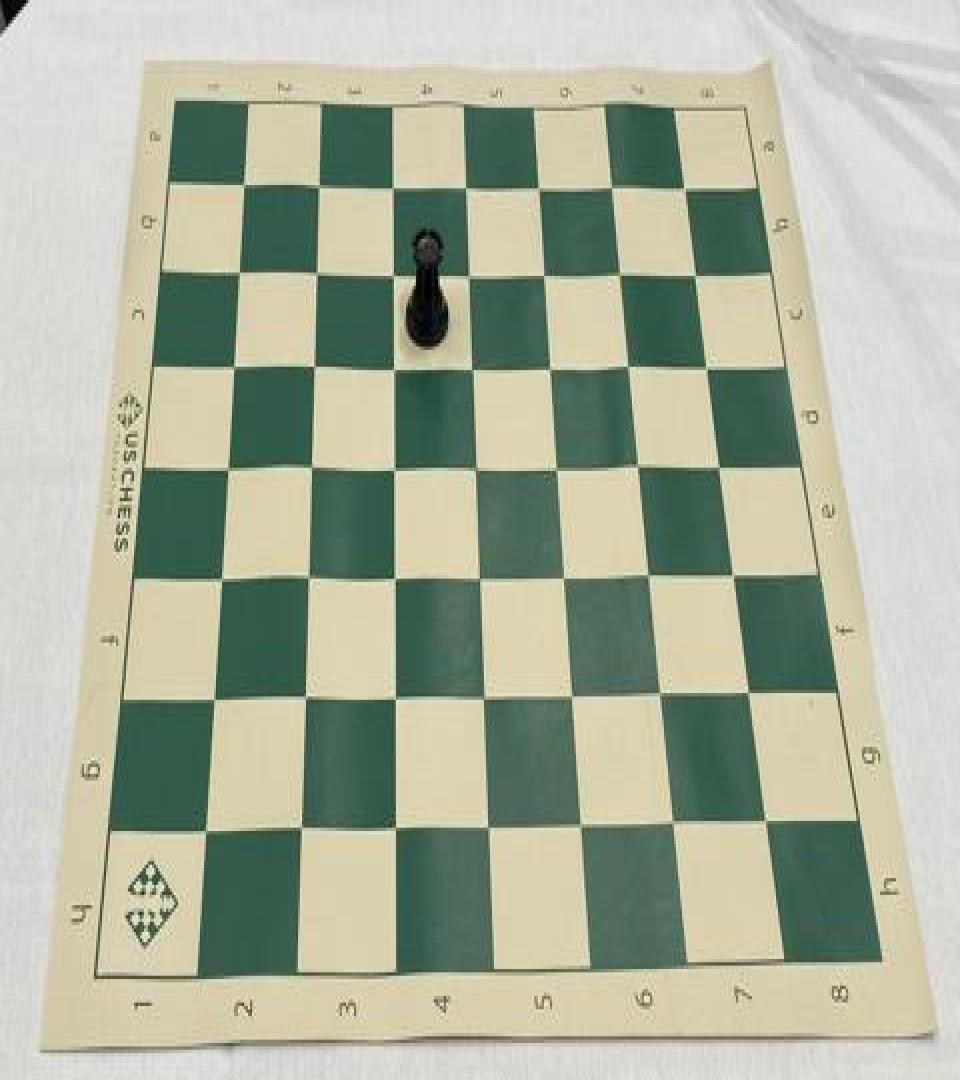xcorner: (602, 166, 624, 204), (529, 166, 551, 204), (456, 166, 478, 204), (382, 166, 404, 204), (383, 252, 405, 290), (306, 252, 328, 290), (229, 252, 251, 290), (697, 346, 719, 384), (619, 346, 641, 384), (541, 346, 563, 384), (462, 346, 484, 384), (383, 346, 405, 384), (303, 346, 325, 384), (223, 346, 245, 384), (563, 676, 585, 714), (756, 802, 778, 840), (674, 168, 696, 205), (308, 165, 330, 202), (234, 165, 256, 202), (685, 254, 707, 291), (610, 254, 632, 291), (535, 254, 557, 291), (459, 254, 481, 291), (383, 449, 405, 486), (300, 449, 322, 486), (217, 449, 239, 486), (724, 555, 746, 592), (640, 557, 662, 594), (555, 557, 577, 594), (470, 558, 492, 595), (384, 558, 406, 595), (297, 560, 319, 597), (210, 560, 232, 597), (739, 673, 761, 710), (651, 675, 673, 712), (474, 678, 496, 715), (384, 678, 406, 715), (664, 804, 686, 841), (572, 806, 594, 843), (385, 809, 407, 846), (290, 811, 312, 848), (195, 813, 217, 850), (710, 448, 732, 484), (629, 448, 651, 484), (548, 448, 570, 484), (466, 448, 488, 484), (294, 680, 316, 716), (203, 682, 225, 718), (479, 808, 501, 844)
